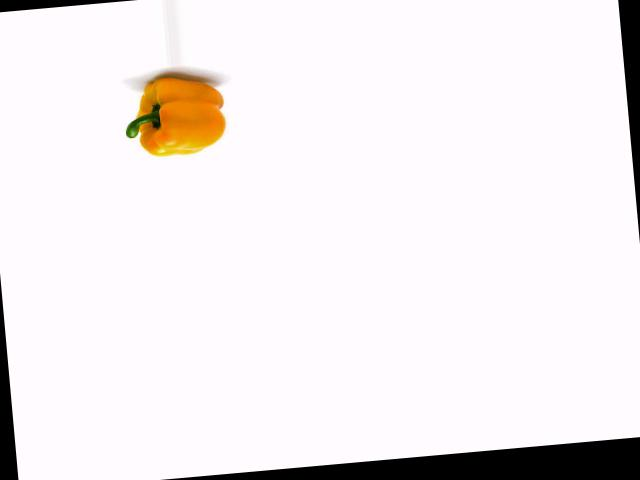bell_pepper: (112, 72, 231, 164)
